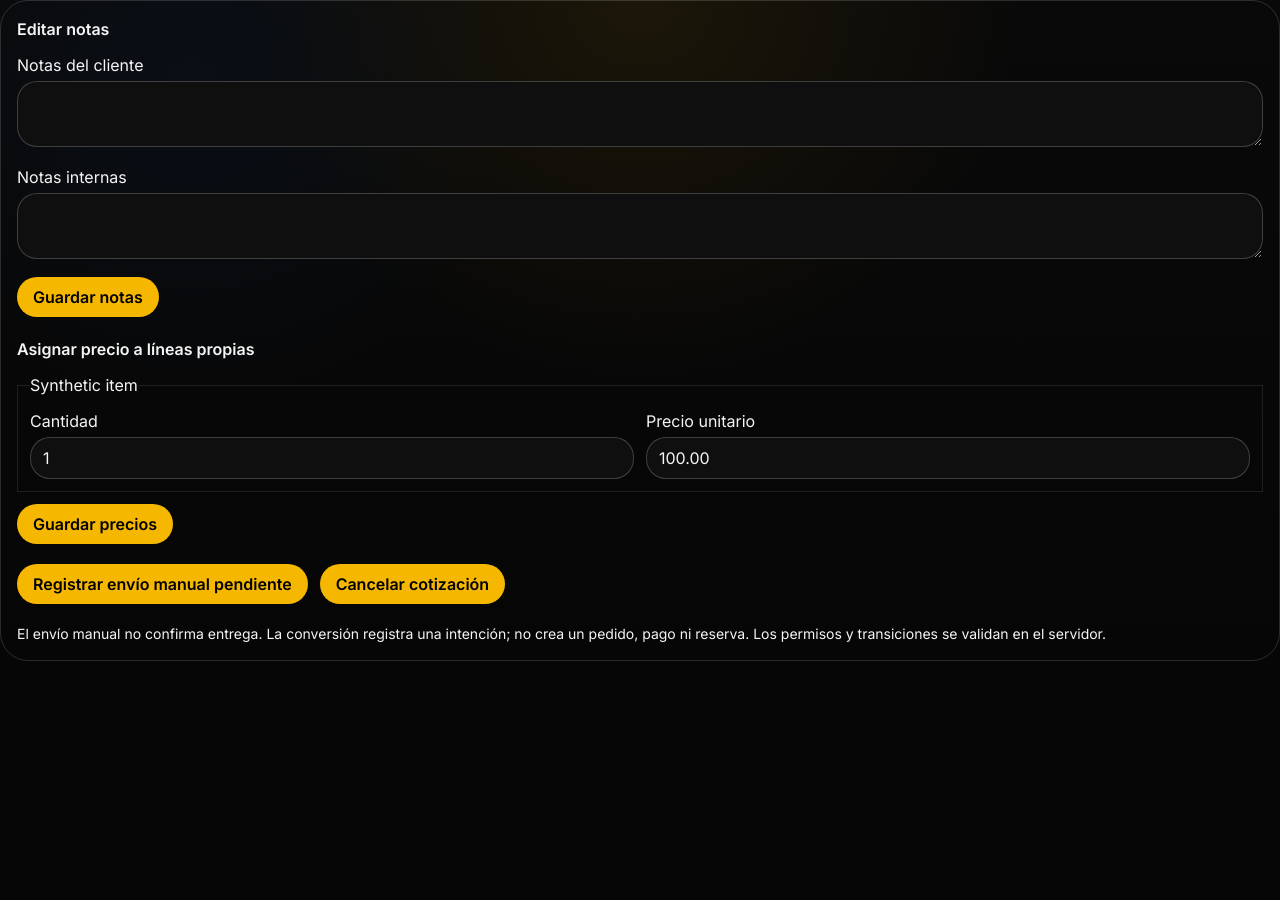
Test case: CRM confirmations match the requested resource and canonical effect › confirms notes that preserve the known current status
This screenshot has width=1280, height=900.
Click the button "Guardar notas": (88, 297) 17,277 -> 159,317
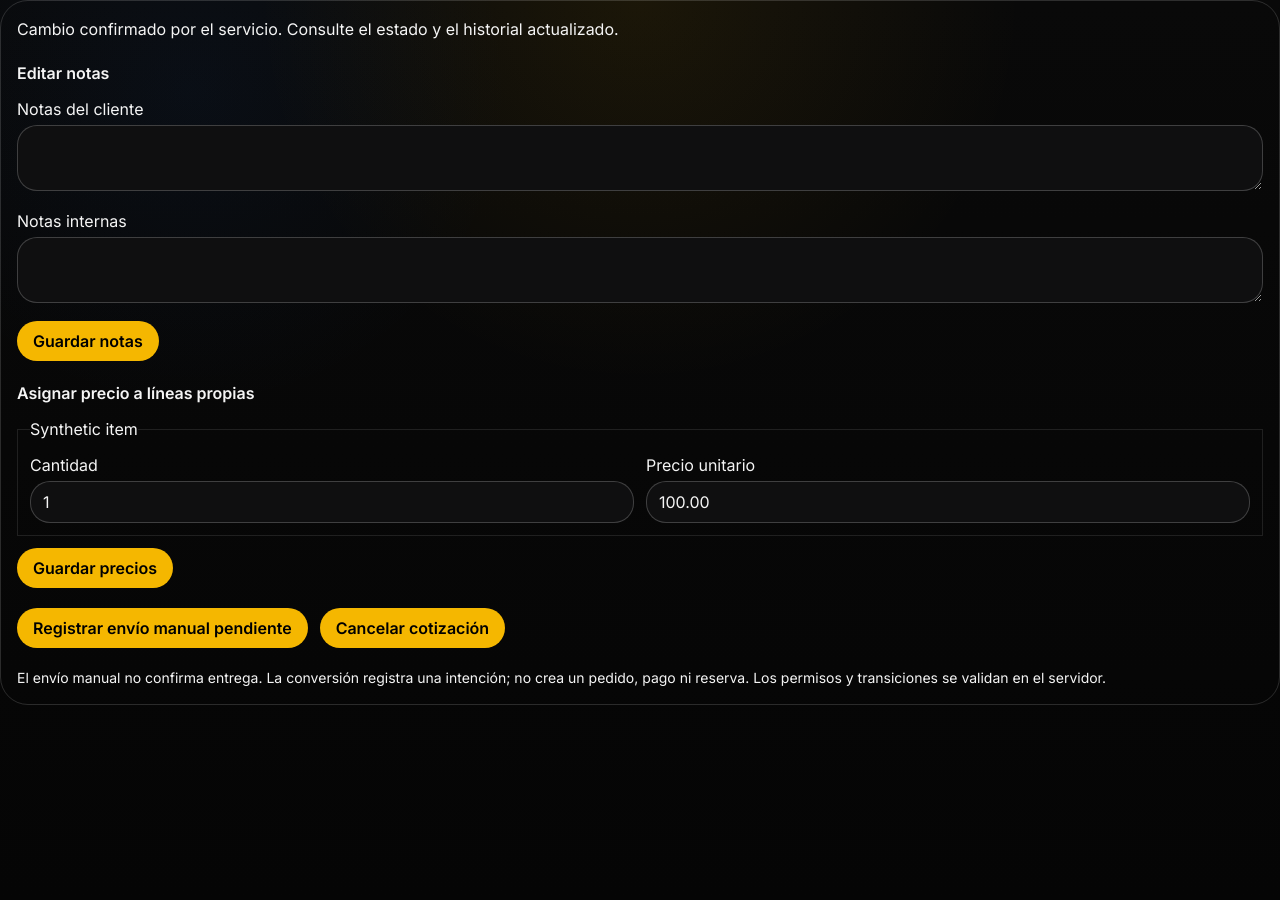
Result: the message shows "confirmado" at 17,19 -> 619,39
